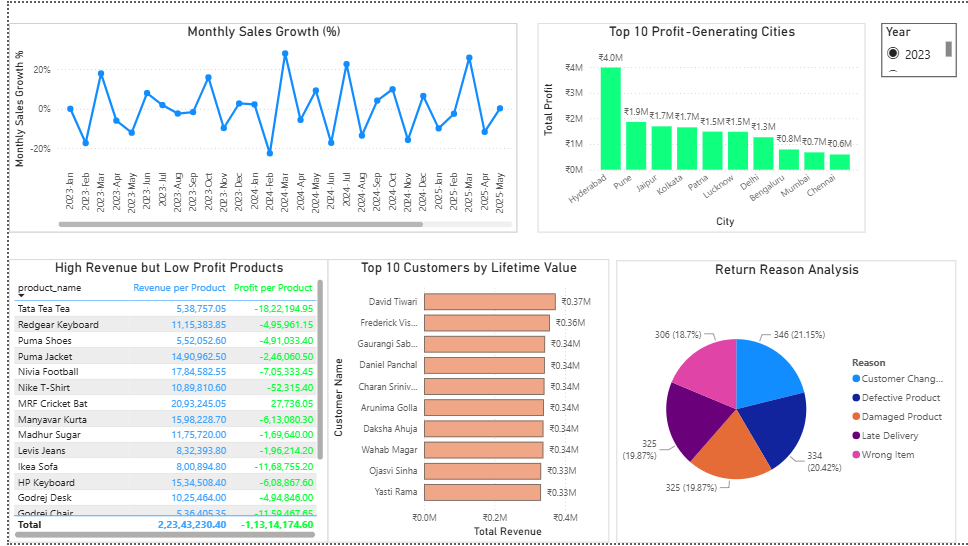

The page's visual inventory and layout, read from the dashboard file:
{"tool":"powerbi","page":{"name":"Business Insights","canvas":[1280,720],"ordinal":1},"visuals":[{"type":"lineChart","title":"Monthly Sales Growth (%)","fields":{"Category":["Calendar.Year-Month"],"Y":["orders.M_Monthly Sales Growth %"]},"box":[0,26.9,677.4,278.8],"z":0},{"type":"clusteredColumnChart","title":"Top 10 Profit-Generating Cities","fields":{"Category":["stores.city"],"Y":["orders.Total Profit"]},"box":[704.4,26.9,436.6,278.8],"z":1000},{"type":"tableEx","title":"High Revenue but Low Profit Products","fields":{"Values":["products.product_name","orders.Revenue per Product","orders.Profit per Product"]},"box":[0,341.6,425.3,377.9],"z":2000},{"type":"clusteredBarChart","title":"Top 10 Customers by Lifetime Value","fields":{"Category":["customers.customer_name"],"Y":["orders.Total Revenue"]},"box":[425.3,341.6,375.1,377.9],"z":3000},{"type":"pieChart","title":"Return Reason Analysis","fields":{"Category":["returns.return_reason"],"Y":["CountNonNull(returns.return_id)"]},"box":[810.1,343,453.2,376.5],"z":4000},{"type":"listSlicer","fields":{"Values":["Calendar.Year"]},"box":[1162.9,26.9,100.3,72.1],"z":4001}]}

Visuals, with their boxes in screenshot pixels (x1, y1, x2, y2), scaled from the page's 1280x720 canvas onto the 968x546 screenshot:
"Monthly Sales Growth (%)" lineChart: crop(0, 20, 512, 232)
"Top 10 Profit-Generating Cities" clusteredColumnChart: crop(533, 20, 863, 232)
"High Revenue but Low Profit Products" tableEx: crop(0, 259, 322, 545)
"Top 10 Customers by Lifetime Value" clusteredBarChart: crop(322, 259, 605, 545)
"Return Reason Analysis" pieChart: crop(613, 260, 955, 545)
listSlicer - Calendar.Year: crop(879, 20, 955, 75)
